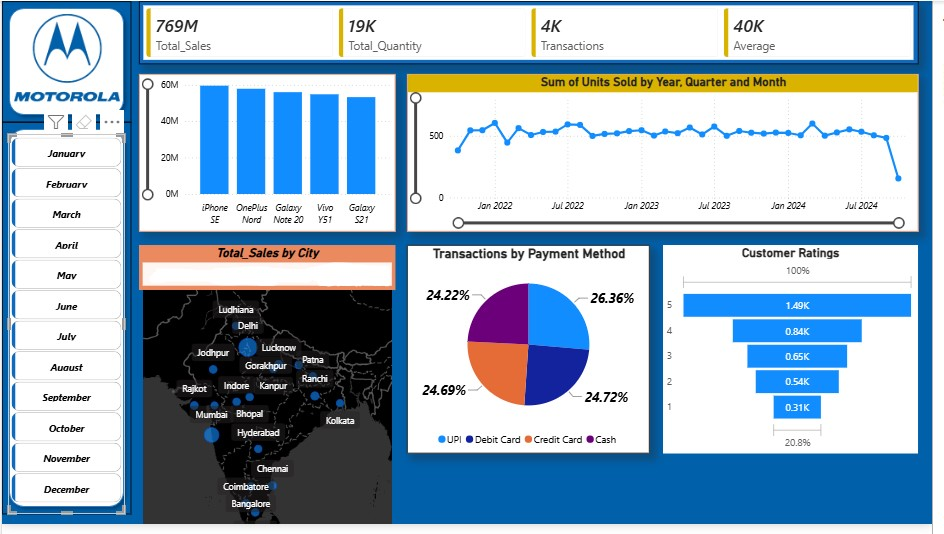

The page's visual inventory and layout, read from the dashboard file:
{"tool":"powerbi","page":{"name":"Page 1","canvas":[1280,720],"ordinal":0},"visuals":[{"type":"shape","box":[0,0,177.5,166.5],"z":0},{"type":"image","box":[16.5,0,145.9,155.5],"z":1000},{"type":"shape","box":[0,166.5,177.5,539.5],"z":2000},{"type":"advancedSlicerVisual","fields":{"Values":["Sheet1.Date .Variation.Date Hierarchy.Month"]},"box":[8.3,183.1,161,523],"z":3000},{"type":"cardVisual","fields":{"Data":["Sales_Data.Total_Sales","Sales_Data.Total_Quantity","Sales_Data.Total_Transactions","Sales_Data.Average"]},"box":[188.6,0,1072.9,87.1],"z":4000},{"type":"map","fields":{"Category":["Sales_Data.City"],"Size":["Sales_Data.Total_Sales"]},"box":[188.6,335.7,352.9,384.3],"z":5000},{"type":"lineChart","fields":{"Category":["Sales_Data.Date .Variation.Date Hierarchy.Year","Sales_Data.Date .Variation.Date Hierarchy.Quarter","Sales_Data.Date .Variation.Date Hierarchy.Month","Sales_Data.Date .Variation.Date Hierarchy.Day"],"Y":["Sum(Sales_Data.Units Sold)"]},"box":[557.1,100,704.3,217.1],"z":6000},{"type":"clusteredColumnChart","fields":{"Category":["Sales_Data.Mobile Model"],"Y":["Sales_Data.Total_Sales"]},"box":[188.6,100,352.9,217.1],"z":7000},{"type":"donutChart","fields":{"Category":["Sales_Data.Payment Method"],"Y":["Sales_Data.Transactions"]},"box":[557.1,335.7,334.3,287.1],"z":8000},{"type":"funnel","title":"Customer Ratings ","fields":{"Category":["Sales_Data.Customer Ratings"],"Y":["CountNonNull(Sales_Data.Customer Ratings)"]},"box":[910,335.7,351.4,287.1],"z":9000}]}

Visuals, with their boxes in screenshot pixels (x1, y1, x2, y2), scaled from the page's 1280x720 canvas onto the 944x534 screenshot:
shape: detection(0, 0, 131, 123)
image: detection(12, 0, 120, 115)
shape: detection(0, 123, 131, 524)
advancedSlicerVisual - Sheet1.Date .Variation.Date Hierarchy.Month: detection(6, 136, 125, 524)
cardVisual - Sales_Data.Total_Sales x Sales_Data.Total_Quantity: detection(139, 0, 930, 65)
map - Sales_Data.City x Sales_Data.Total_Sales: detection(139, 249, 399, 533)
lineChart - Sales_Data.Date .Variation.Date Hierarchy.Year x Sales_Data.Date .Variation.Date Hierarchy.Quarter: detection(411, 74, 930, 235)
clusteredColumnChart - Sales_Data.Mobile Model x Sales_Data.Total_Sales: detection(139, 74, 399, 235)
donutChart - Sales_Data.Payment Method x Sales_Data.Transactions: detection(411, 249, 657, 462)
"Customer Ratings " funnel: detection(671, 249, 930, 462)
